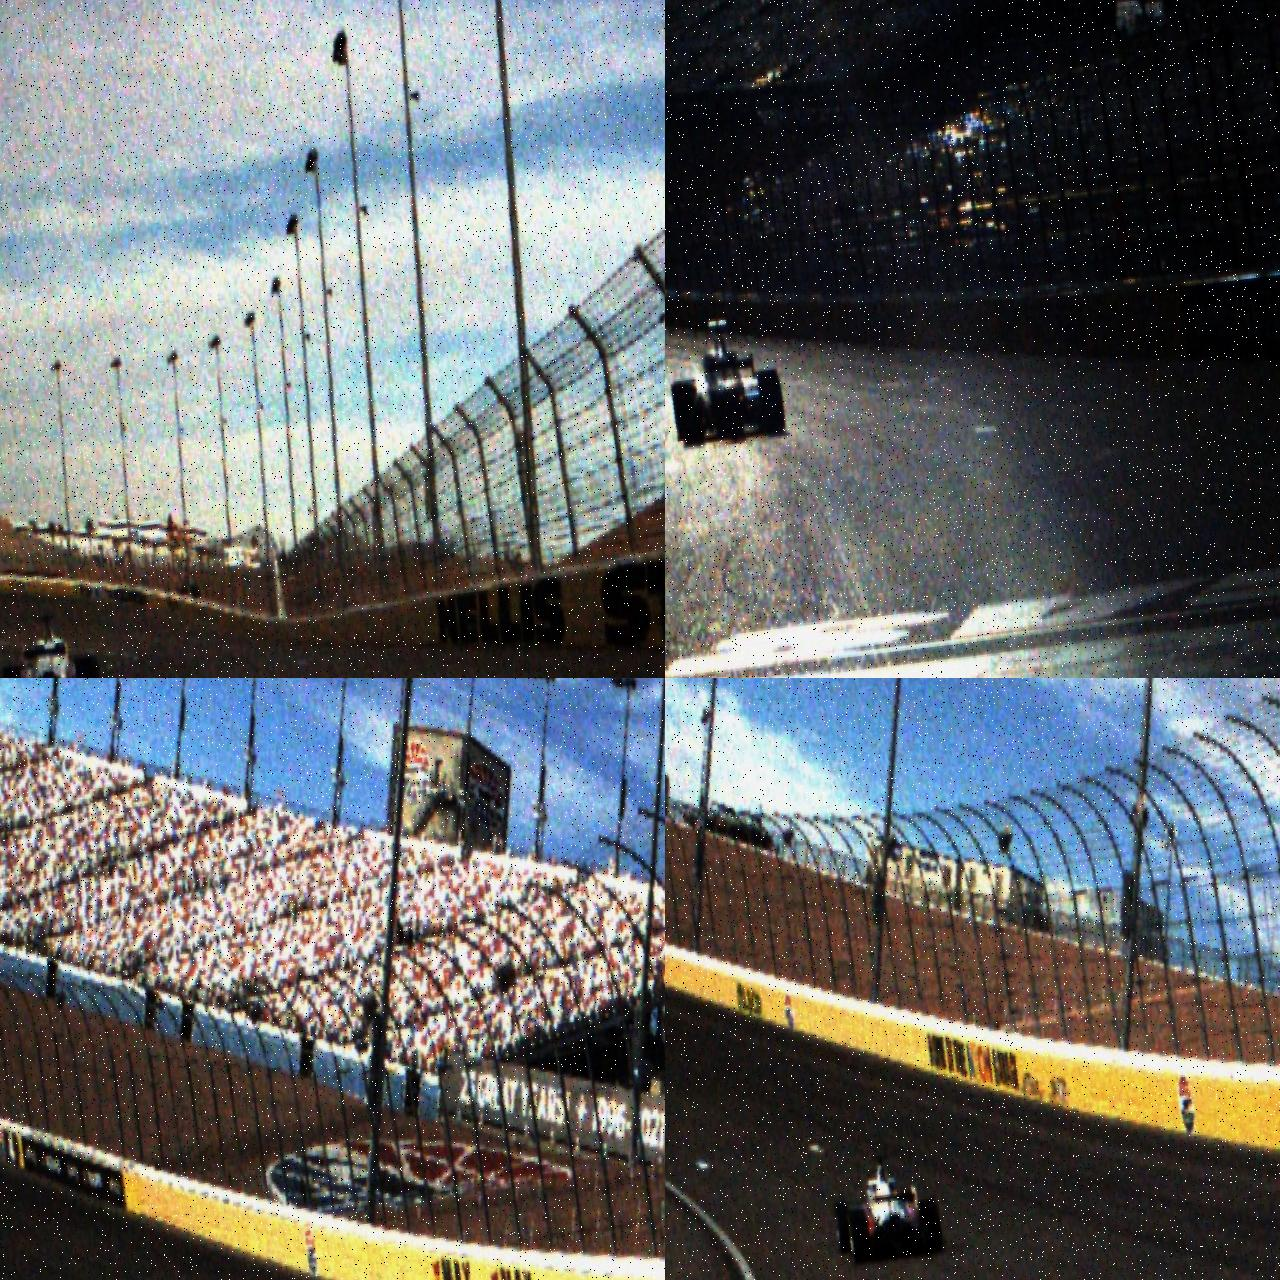AV: (665, 311, 787, 448), (827, 1148, 945, 1268), (0, 607, 106, 678)
Wheel: (757, 369, 787, 436), (918, 1198, 945, 1256), (678, 386, 704, 446), (846, 1208, 873, 1265), (833, 1202, 854, 1254), (73, 657, 100, 678), (1, 664, 26, 678)
